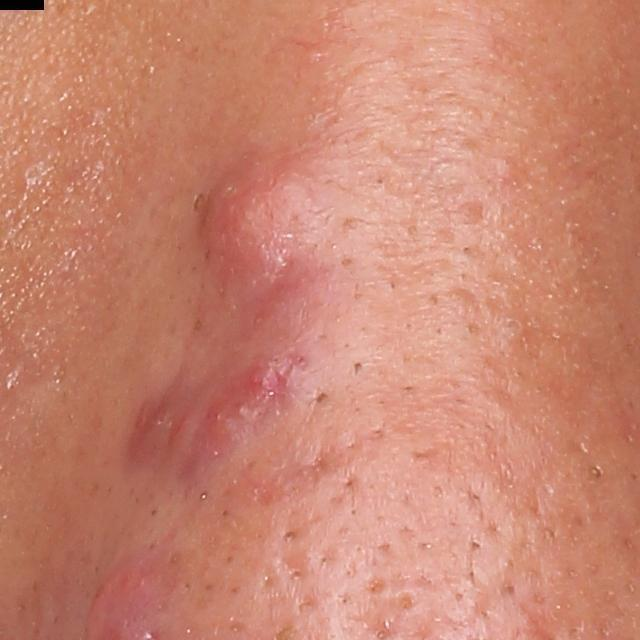atrophic_scar: (276, 550, 312, 585)
comedo: (277, 524, 302, 546), (311, 389, 331, 406), (588, 463, 604, 480), (469, 537, 482, 550)
nodule: (188, 149, 330, 310)
